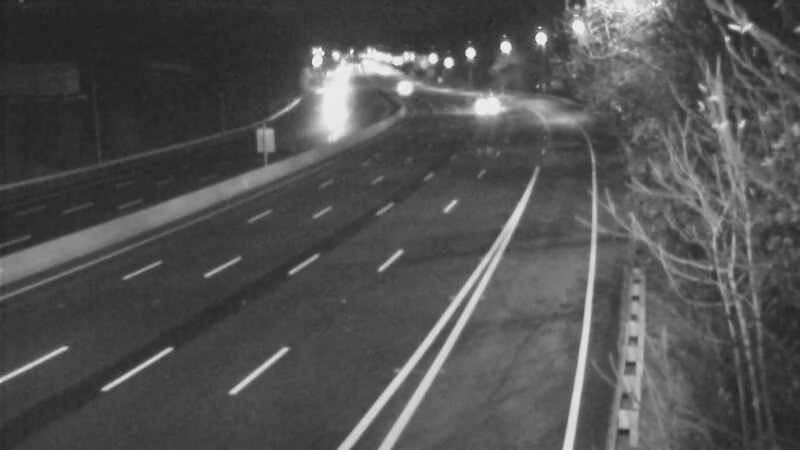vehicle: (374, 61, 424, 111), (460, 79, 510, 129), (301, 77, 351, 127)
